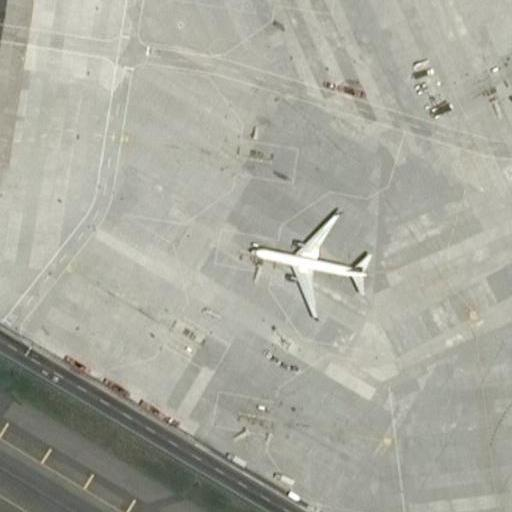Aircraft: (247, 202, 375, 317)
